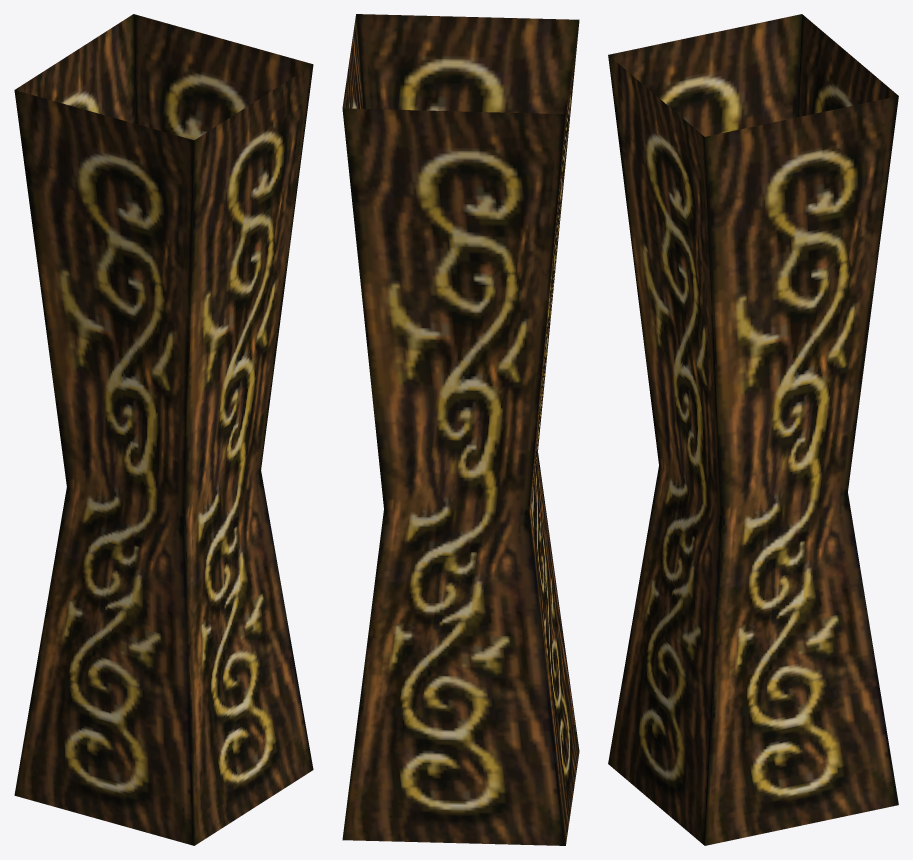
Rendered from EKH_THRONE_PS_BOX09.fbx.
3 renders of one model, left to right at view 1: azimuth 30°, elevation 25°; view 2: azimuth 150°, elevation 25°; view 3: azimuth 270°, elevation 25°, orthographic. The views are drawn at different scales.
Visible parts, largest first — view 1: EKH_THRONE_PS_BOX09; view 2: EKH_THRONE_PS_BOX09; view 3: EKH_THRONE_PS_BOX09.
Part boxes in pixels (bbox=[...]): EKH_THRONE_PS_BOX09: bbox=[14, 14, 313, 845]; EKH_THRONE_PS_BOX09: bbox=[342, 14, 579, 845]; EKH_THRONE_PS_BOX09: bbox=[608, 14, 898, 845].
Size of the model in its own units: 2101 by 5652 by 2101.
1 material, 1 textured.
